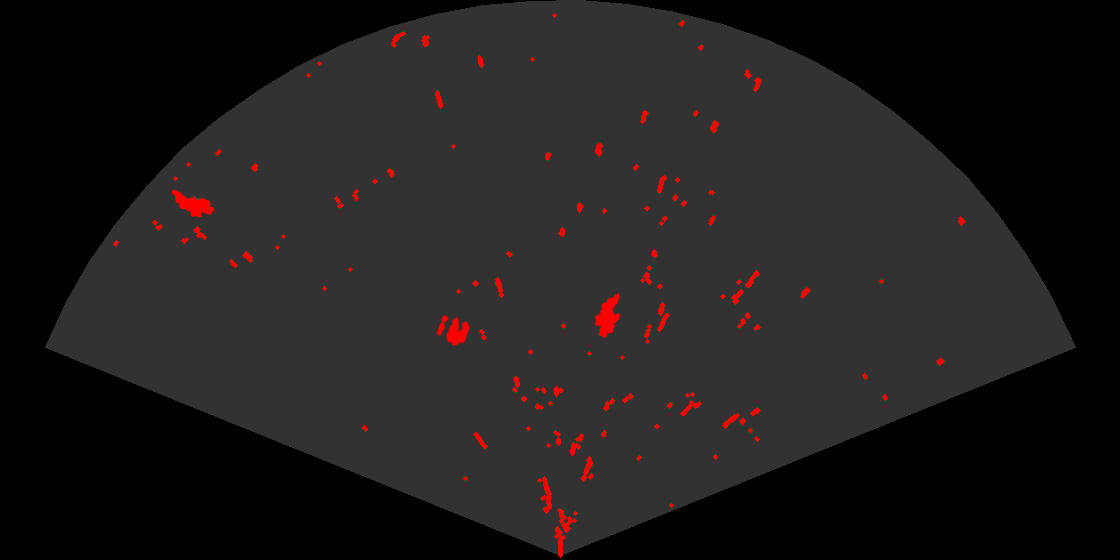AUV: (170, 188, 216, 219), (593, 292, 622, 340)
ball: (435, 313, 471, 348)
